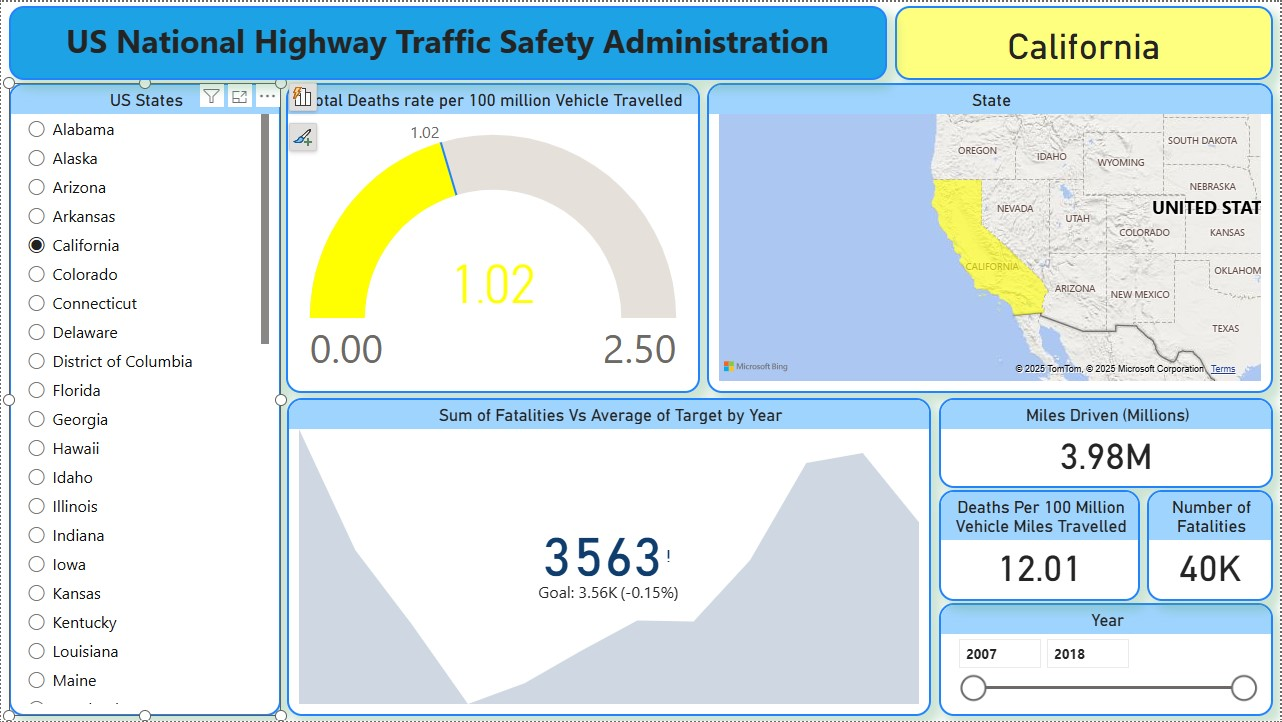

Layout of this report page (visuals, bound fields, positions):
{"tool":"powerbi","page":{"name":"Dashboard","canvas":[1280,720],"ordinal":0},"visuals":[{"type":"slicer","title":"US States","fields":{"Values":["PA - Driving Safety.State"]},"box":[8.1,80.6,272.2,633.1],"z":0},{"type":"card","title":"Selected US State","fields":{"Values":["Min(PA - Driving Safety.State)"]},"box":[894,4,378,73.6],"z":1000},{"type":"gauge","title":"Total Deaths rate per 100 million Vehicle Travelled","fields":{"Y":["Sum(PA - Driving Safety.2018 Deaths per 100 million vehicle miles traveled)"]},"box":[285.3,80.8,414,310],"z":2000},{"type":"filledMap","fields":{"Category":["PA - Driving Safety.State"]},"box":[706.3,80.8,566,310],"z":3000},{"type":"kpi","title":"Sum of Fatalities Vs Average of Target by Year","fields":{"Indicator":["Sum(PA - Driving Safety.Fatalities)"],"TrendLine":["PA - Driving Safety.Year"],"Goal":["Avg(PA - Driving Safety.Target)"]},"box":[285.7,395.8,643.9,317.9],"z":4000},{"type":"card","title":"Miles Driven (Millions)","fields":{"Values":["Sum(PA - Driving Safety.Miles (millions))"]},"box":[937.6,395.9,334.6,89.7],"z":5000},{"type":"slicer","title":"Year","fields":{"Values":["PA - Driving Safety.Year"]},"box":[937.6,600.9,334,112.8],"z":6000},{"type":"textbox","box":[8.1,4,877.9,73.6],"z":7000},{"type":"card","title":"Deaths Per 100 Million Vehicle Miles Travelled","fields":{"Values":["Sum(PA - Driving Safety.Deaths per 100 million vehicle miles traveled)"]},"box":[937.6,488.2,201.6,110.9],"z":8000},{"type":"card","title":"Number of Fatalities","fields":{"Values":["Sum(PA - Driving Safety.Fatalities)"]},"box":[1146.3,488.2,126,110.9],"z":9000}]}

Visuals, with their boxes in screenshot pixels (x1, y1, x2, y2), scaled from the page's 1280x720 canvas onto the 1282x722 screenshot:
"US States" slicer: region(8, 81, 281, 716)
"Selected US State" card: region(895, 4, 1274, 78)
"Total Deaths rate per 100 million Vehicle Travelled" gauge: region(286, 81, 700, 392)
filledMap - PA - Driving Safety.State: region(707, 81, 1274, 392)
"Sum of Fatalities Vs Average of Target by Year" kpi: region(286, 397, 931, 716)
"Miles Driven (Millions)" card: region(939, 397, 1274, 487)
"Year" slicer: region(939, 603, 1274, 716)
textbox: region(8, 4, 887, 78)
"Deaths Per 100 Million Vehicle Miles Travelled" card: region(939, 490, 1141, 601)
"Number of Fatalities" card: region(1148, 490, 1274, 601)
